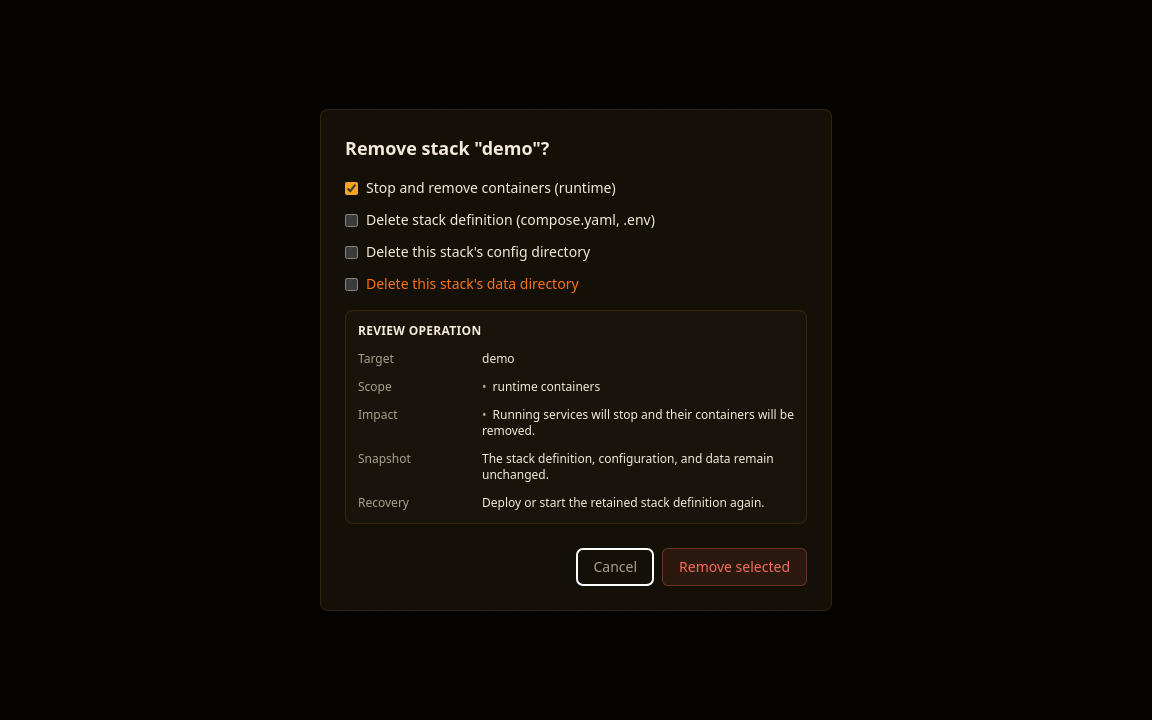
DeleteStackDialog › disables confirm when nothing is selected
The image size is (1152, 720).
What coordinates should you click on to do the following:
click the checkbox labelled "Stop and remove containers (runtime)"
I would click on:
 (352, 188)
Its box is left=345, top=182, right=358, bottom=194.
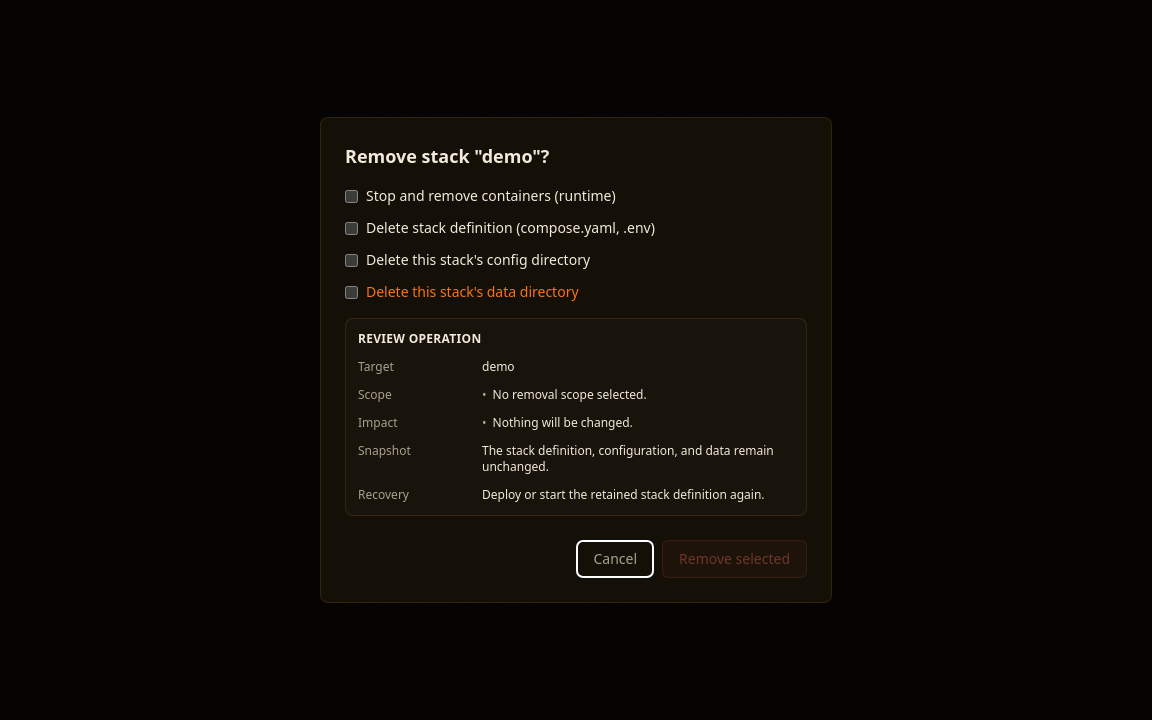
Check: the button with test id "delete-confirm" is disabled, box left=662, top=540, right=807, bottom=578
